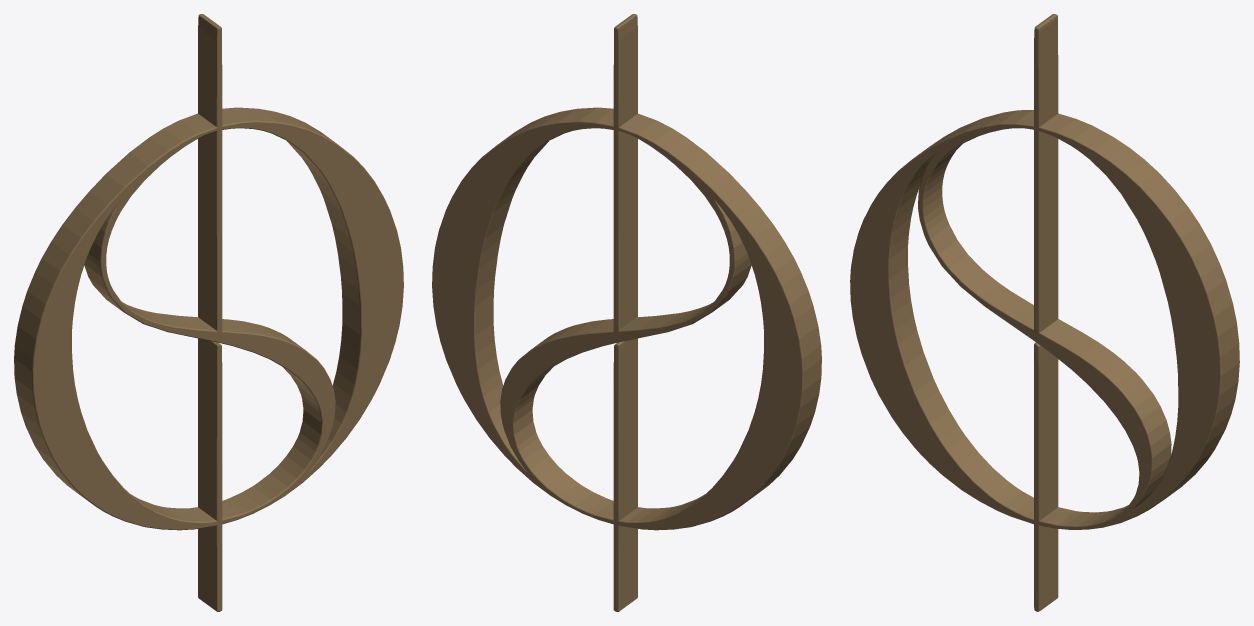
File: oreva-monogram.glb
3 views of the same model, side by side, from view 1: azimuth 30°, elevation 25°; view 2: azimuth 150°, elevation 25°; view 3: azimuth 330°, elevation 25° (orthographic).
Parts seen in each view (by area): view 1: OREVA — extruded original monogram; view 2: OREVA — extruded original monogram; view 3: OREVA — extruded original monogram.
Boxes of the visible parts, box(x1,y1,x2,y2) form: OREVA — extruded original monogram: box(14, 14, 403, 611); OREVA — extruded original monogram: box(432, 14, 821, 611); OREVA — extruded original monogram: box(850, 14, 1239, 611).
Size of the model in its own units: 2.66 by 4 by 0.2393.
